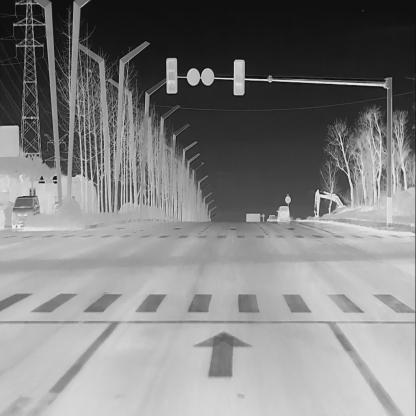car: (10, 193, 40, 229), (278, 205, 290, 222), (268, 213, 276, 222)
